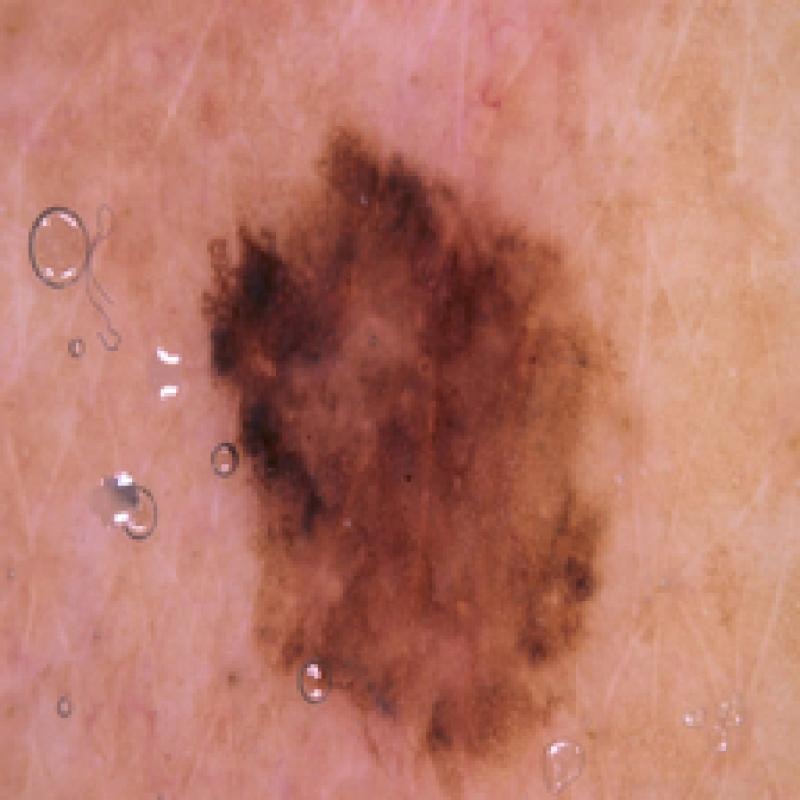benign: (187, 125, 639, 773)
